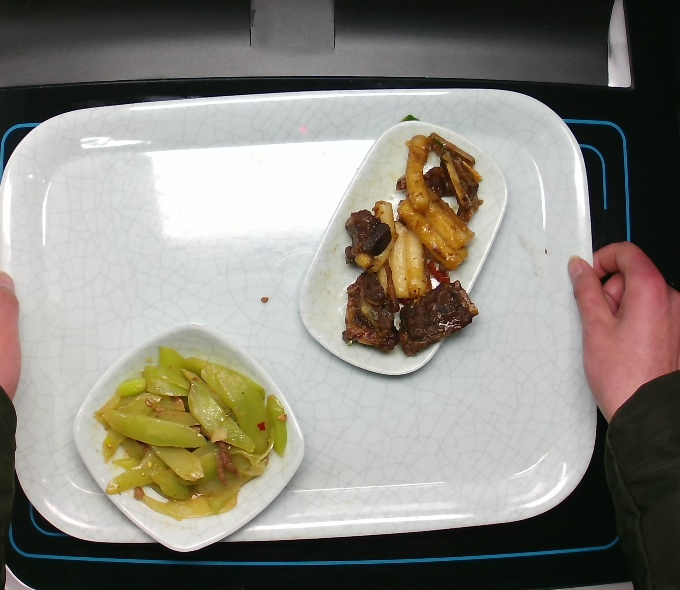wcq-NianGaoZaiPai: (336, 127, 497, 361)
wcq-WoSun: (89, 342, 311, 524)
